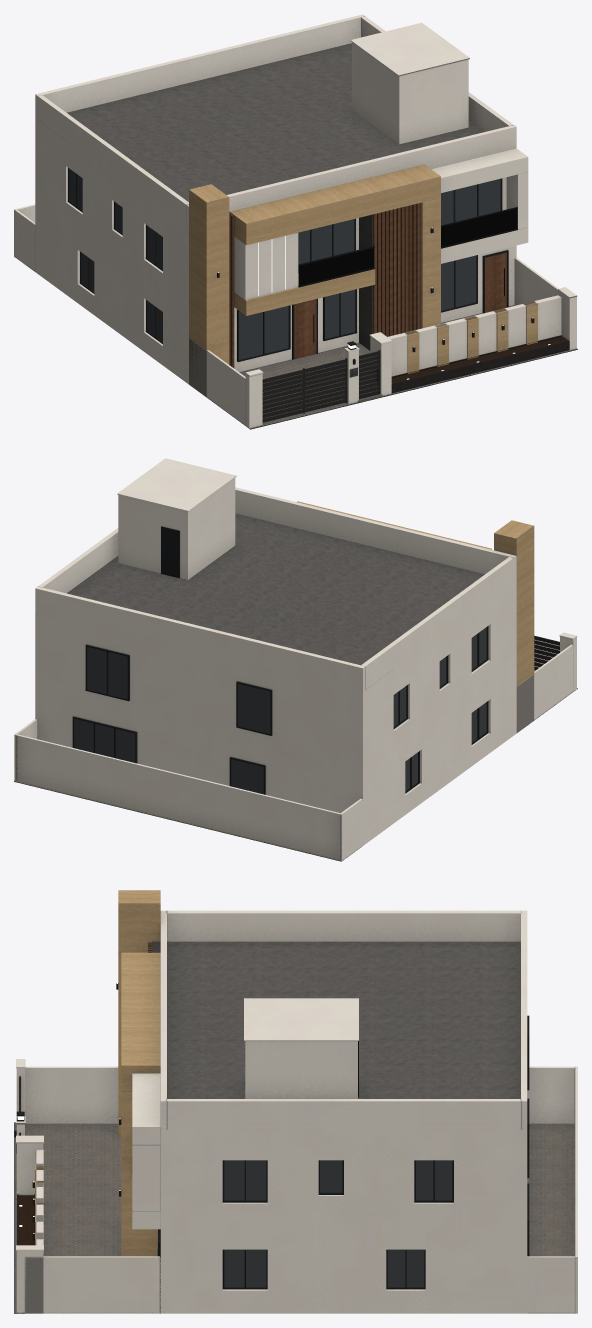
File: house_D.glb
3 renders of one model, top to bottom at view 1: azimuth 30°, elevation 25°; view 2: azimuth 150°, elevation 25°; view 3: azimuth 270°, elevation 25°, orthographic. The views are drawn at different scales.
Parts seen in each view (by area): view 1: body, glass; view 2: body, glass; view 3: body, glass.
Boxes of the visible parts, x1,y1,x2,y2 form: body: (14,14,577,429); glass: (70,169,500,359); body: (14,458,577,861); glass: (74,627,486,794); body: (14,890,577,1313); glass: (224,1160,452,1287).
Bounding box in the file's own units: 16 × 10.46 × 20.
3 materials, 1 textured.
